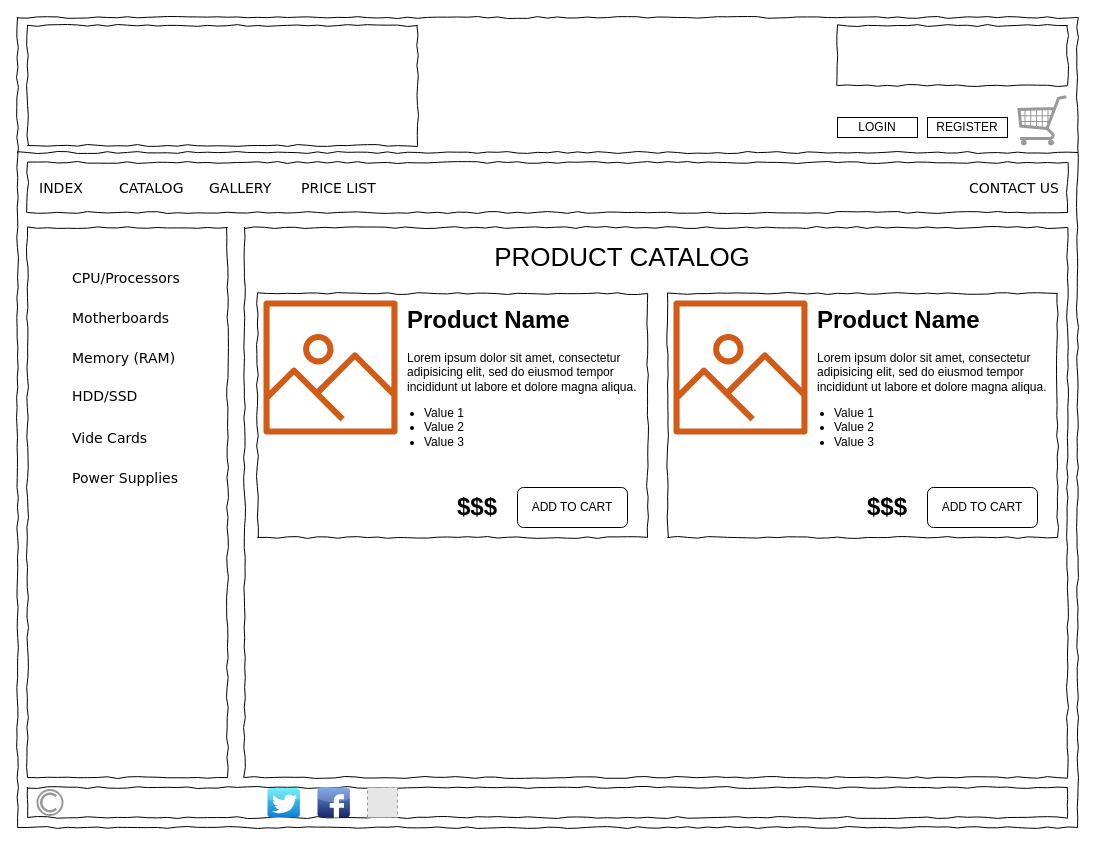
Some shapes in this 1095 by 845 pixel diagram are drawn without their labels. Grey dashed boxes stand in for pictures. Each missing label, with the box of its shape:
Contact: (836, 24, 1068, 86)
LOGO: (26, 24, 418, 146)
